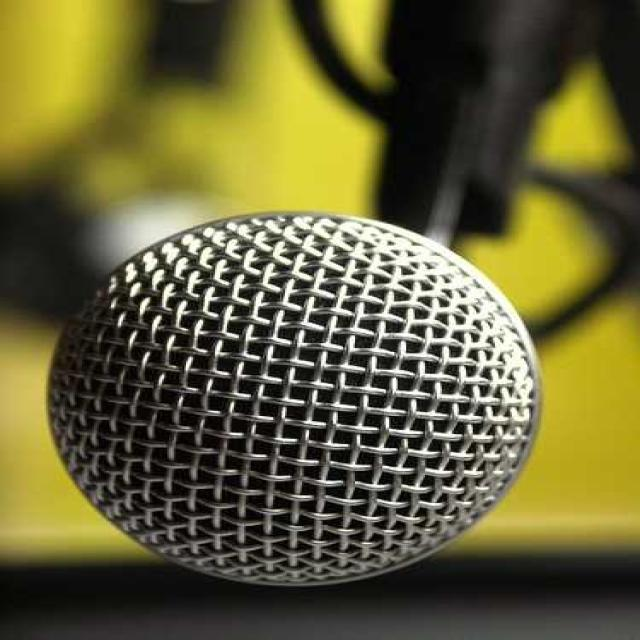microphone: (54, 214, 532, 580)
